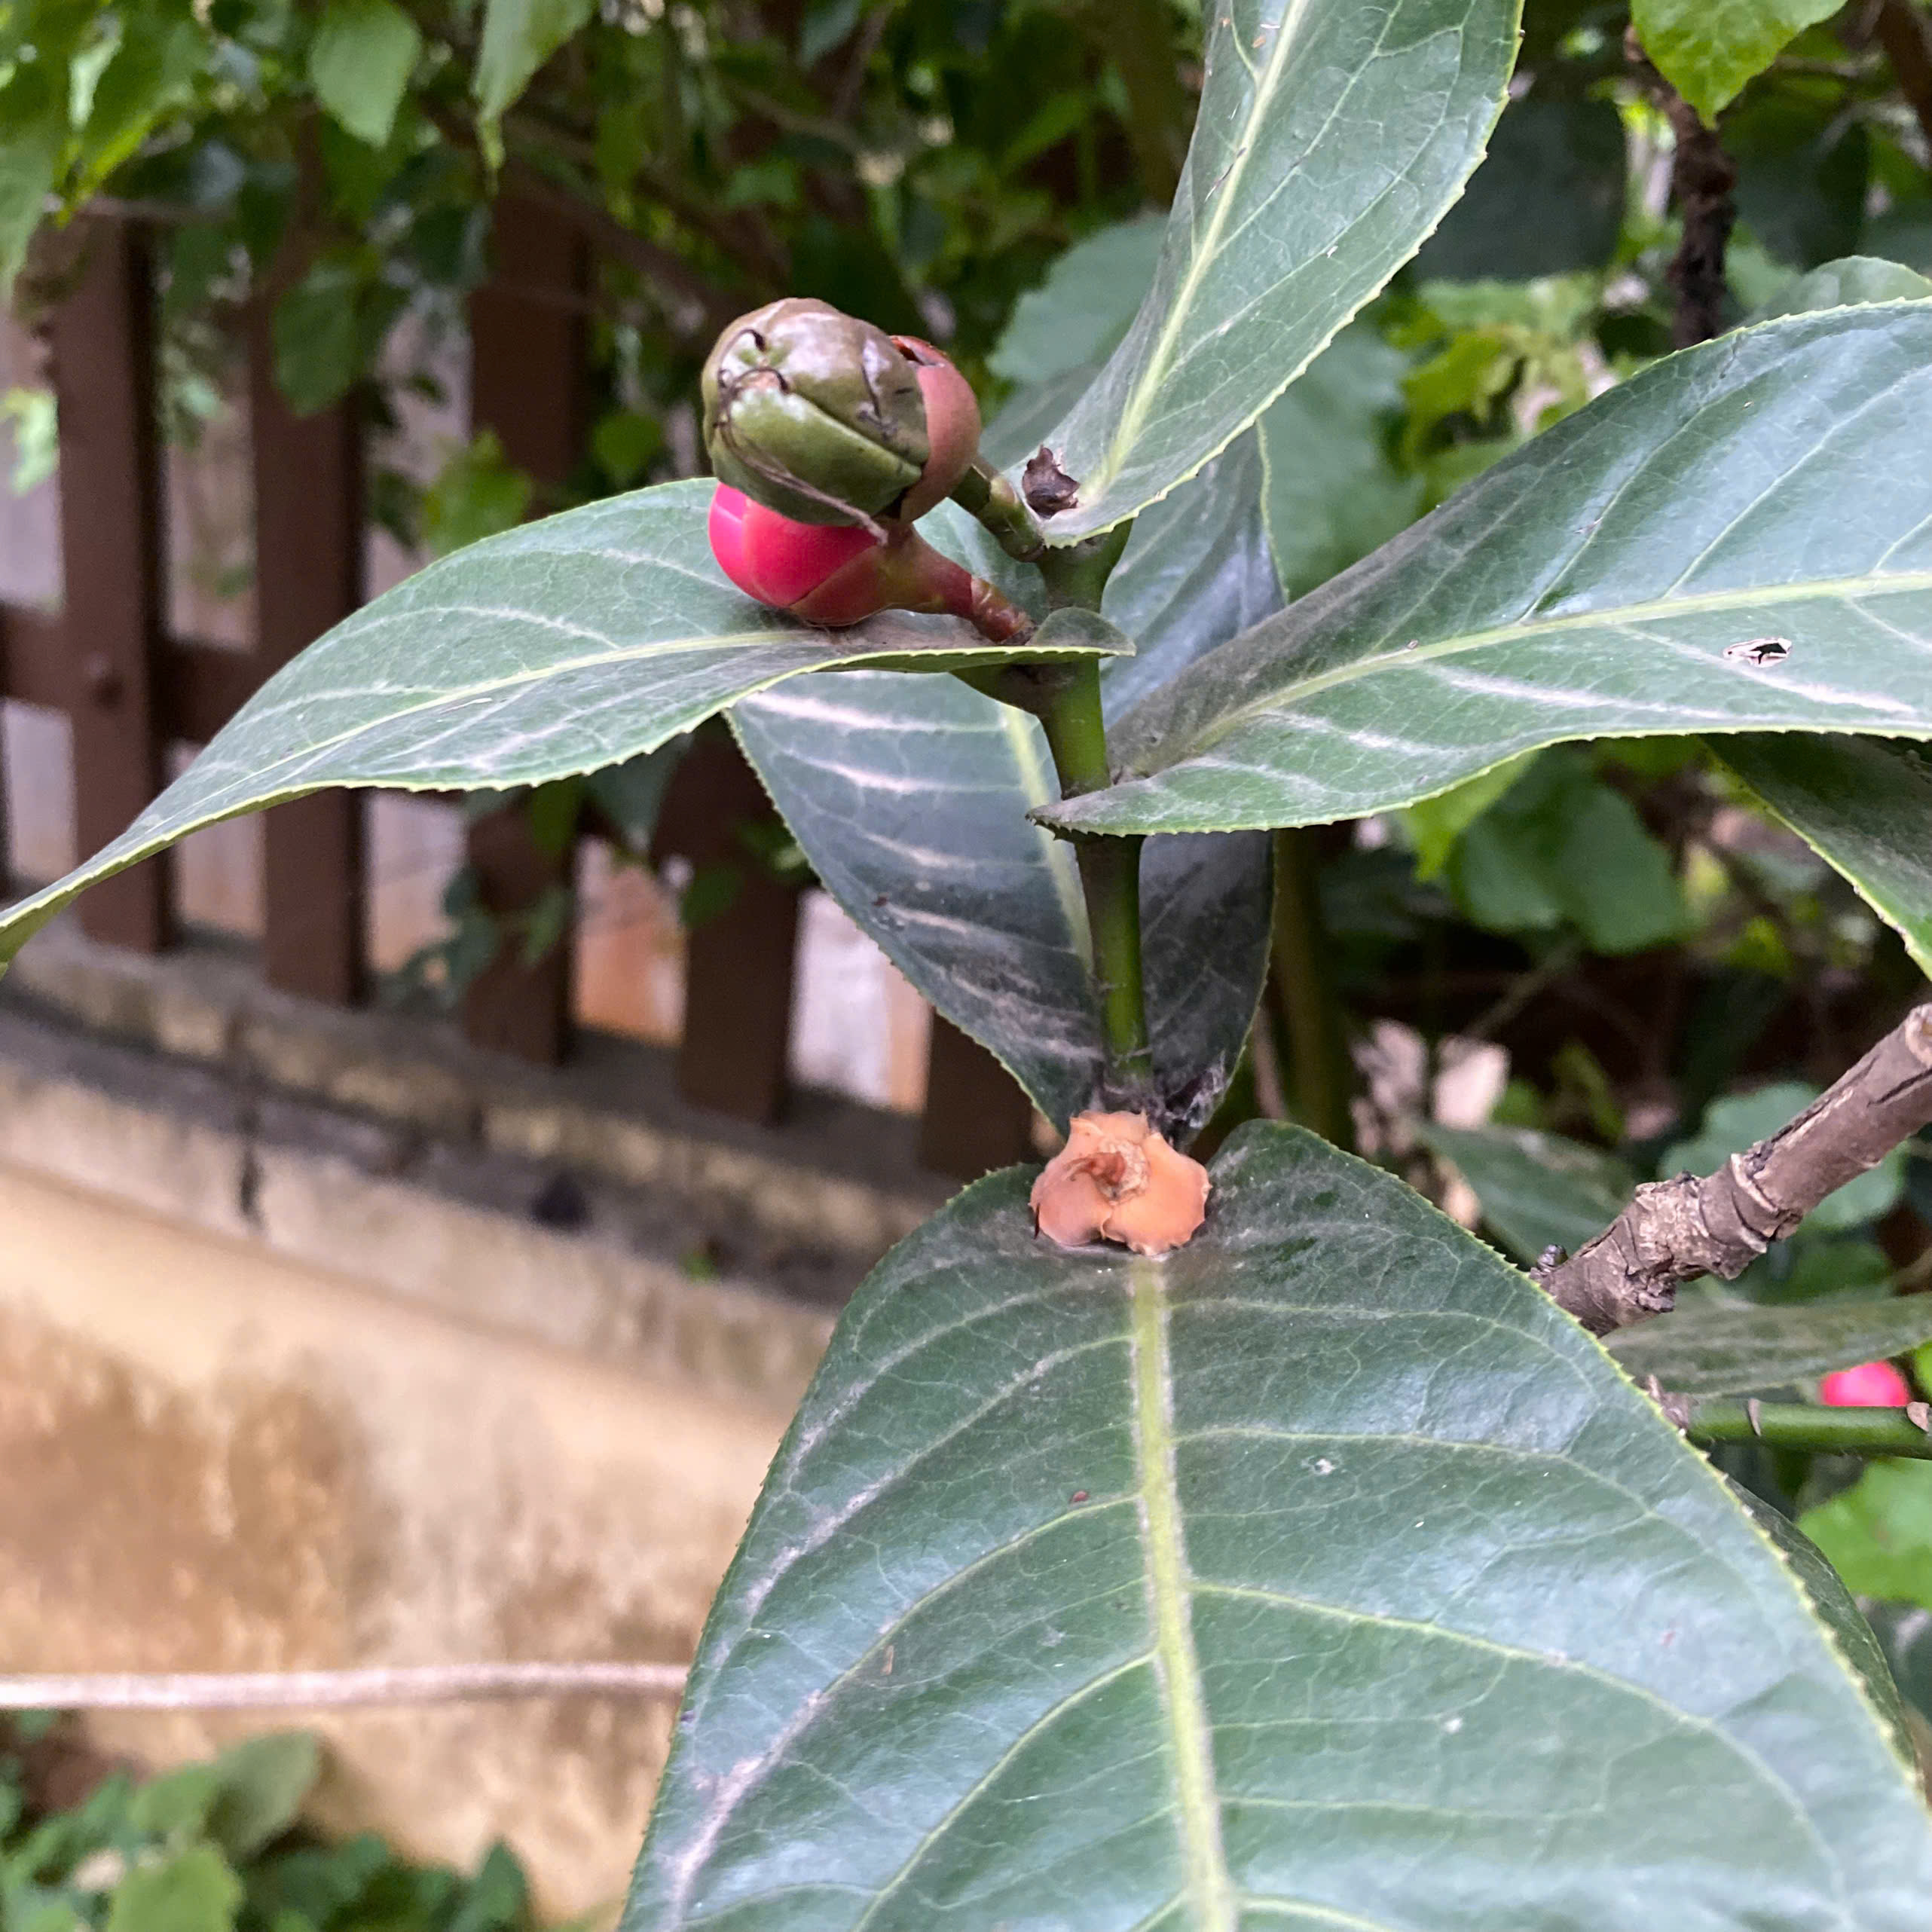hoa_hai_duong: (58, 134, 1932, 1925)
